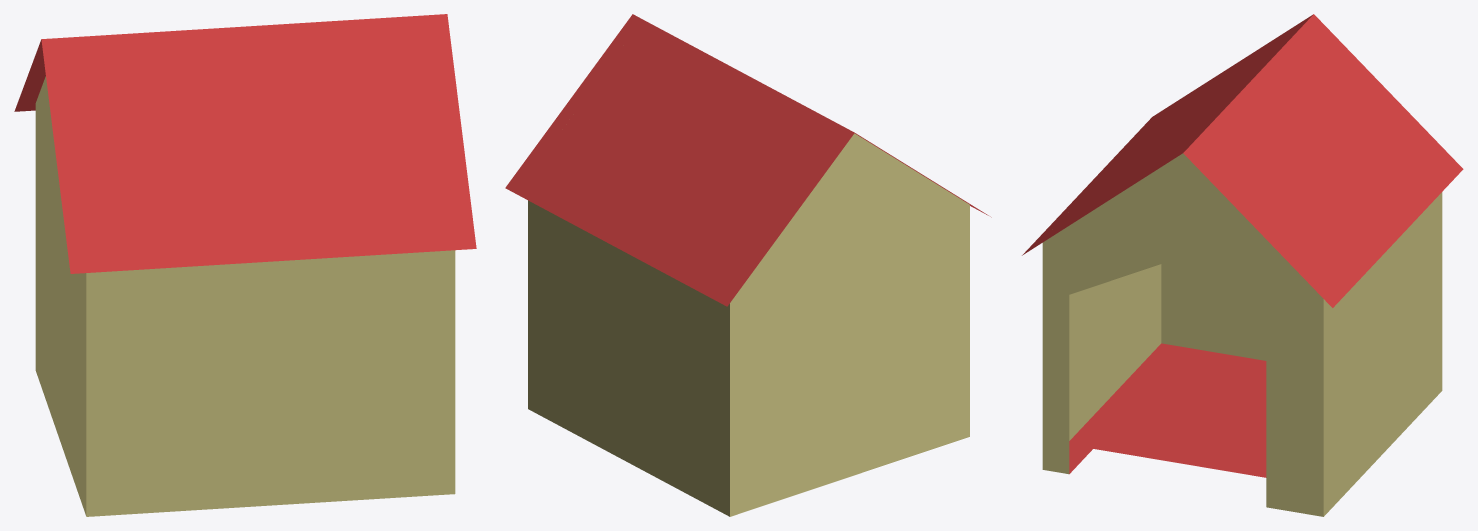
The picture shows the model from 3 angles, left to right: view 1: azimuth 30°, elevation 25°; view 2: azimuth 150°, elevation 25°; view 3: azimuth 270°, elevation 25°; orthographic projection. The views are drawn at different scales.
Size of the model in its own units: 13.97 by 13.63 by 11.82.
